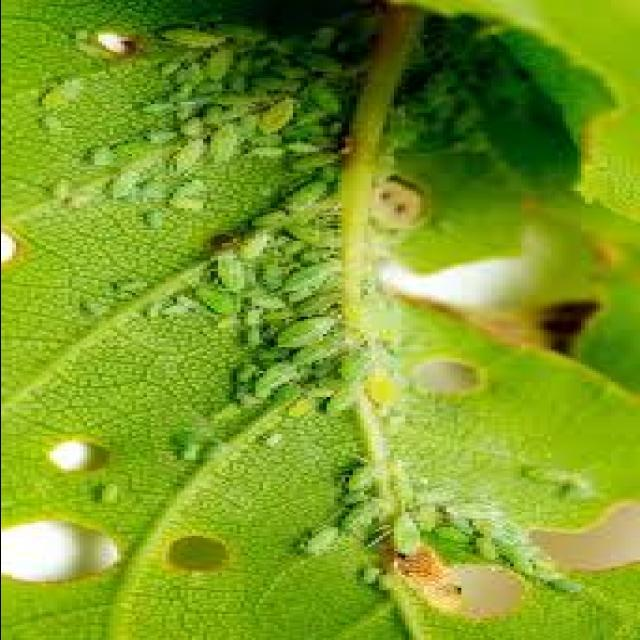aphid: (366, 504, 431, 562), (270, 308, 348, 354), (191, 11, 281, 50), (26, 67, 101, 113), (247, 89, 311, 139), (273, 172, 337, 220), (273, 252, 348, 290), (150, 18, 236, 50), (292, 518, 352, 562), (412, 65, 472, 109), (164, 130, 220, 176), (300, 76, 356, 120), (202, 247, 255, 293), (363, 364, 415, 410), (288, 41, 352, 78), (284, 146, 352, 178), (255, 354, 303, 399), (198, 41, 246, 85), (341, 451, 389, 495), (318, 379, 371, 418), (367, 146, 419, 184), (104, 269, 164, 299), (442, 496, 512, 520), (38, 172, 86, 206), (72, 289, 120, 323), (288, 336, 340, 366), (524, 460, 584, 486), (101, 165, 146, 199), (243, 202, 296, 230), (82, 137, 124, 171), (86, 478, 131, 506), (135, 204, 176, 232), (543, 575, 591, 597), (138, 93, 180, 117), (37, 108, 75, 134), (468, 534, 506, 560), (356, 560, 390, 586), (172, 440, 210, 462), (258, 427, 296, 449), (138, 297, 172, 321), (374, 570, 400, 592)
